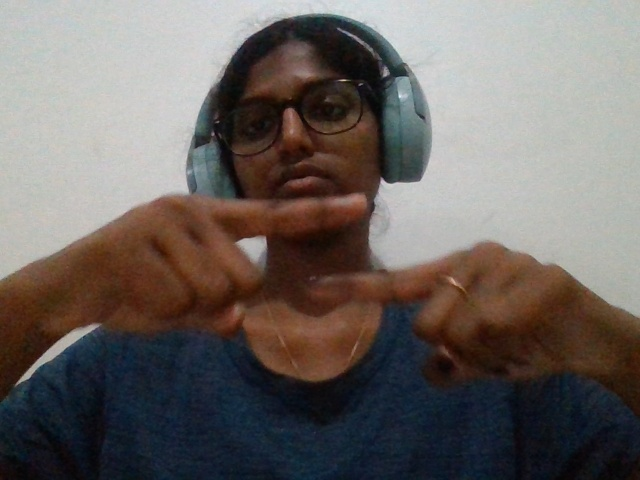Sign: (5, 174, 637, 435)
